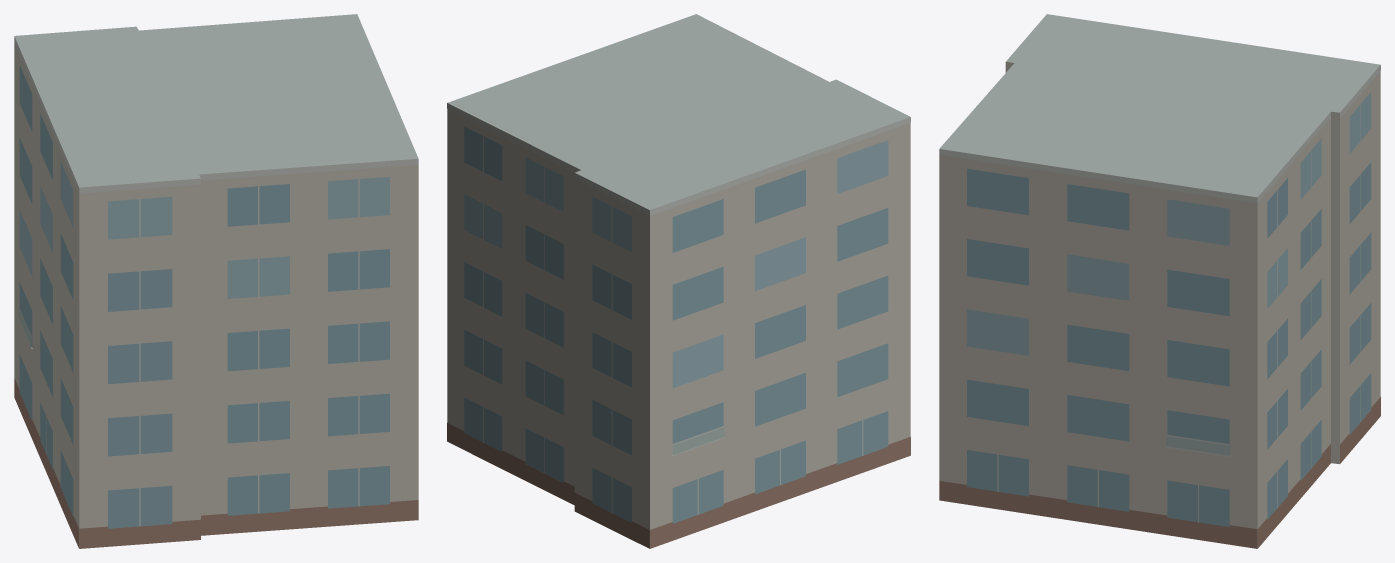
File: survey-upis-32982684.glb
The picture shows the model from 3 angles, left to right: view 1: azimuth 30°, elevation 25°; view 2: azimuth 150°, elevation 25°; view 3: azimuth 270°, elevation 25°; orthographic projection. The views are drawn at different scales.
Visible parts, largest first — view 1: survey-upis-32982684.tmp; view 2: survey-upis-32982684.tmp; view 3: survey-upis-32982684.tmp.
Boxes of the visible parts, left/top/right/bottom form: survey-upis-32982684.tmp: left=14, top=14, right=418, bottom=548; survey-upis-32982684.tmp: left=447, top=14, right=910, bottom=548; survey-upis-32982684.tmp: left=939, top=14, right=1380, bottom=548.
Bounding box in the file's own units: 16.24 × 14.5 × 16.52.
